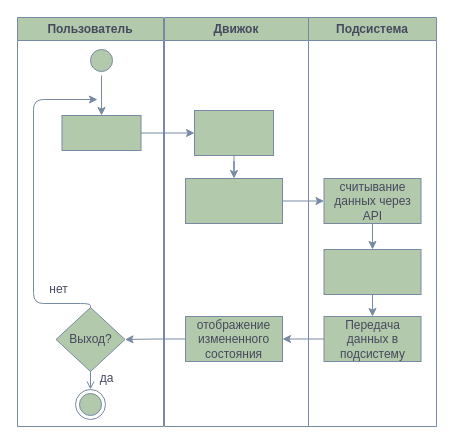
Image size: 454x444. Some labels were removed from this diagram. Each missing label, with the centre of its shape:
"Валидация данных" belongs at point 372,271.
"Ввод сигналов" belongs at point 101,132.
"преобразование сигнала в данные" belongs at point 233,201.
"Считывание сигнала из ОС" belongs at point 234,133.
